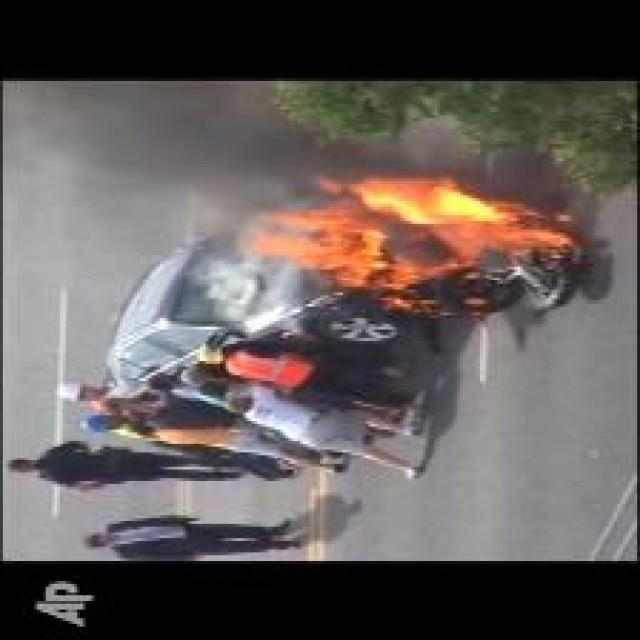Fire: (252, 178, 578, 312)
